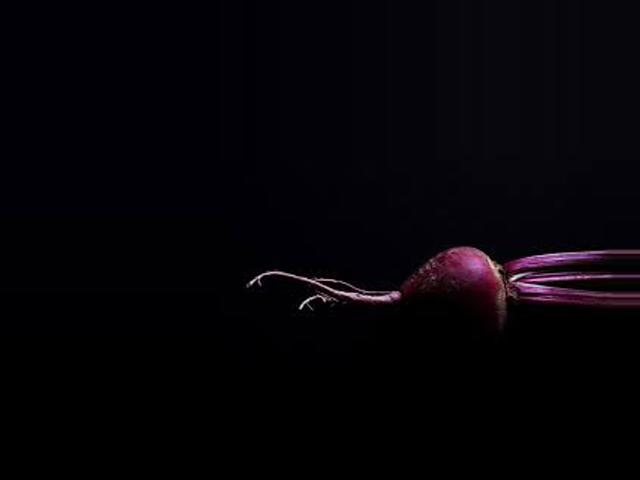beet: (245, 240, 612, 341)
